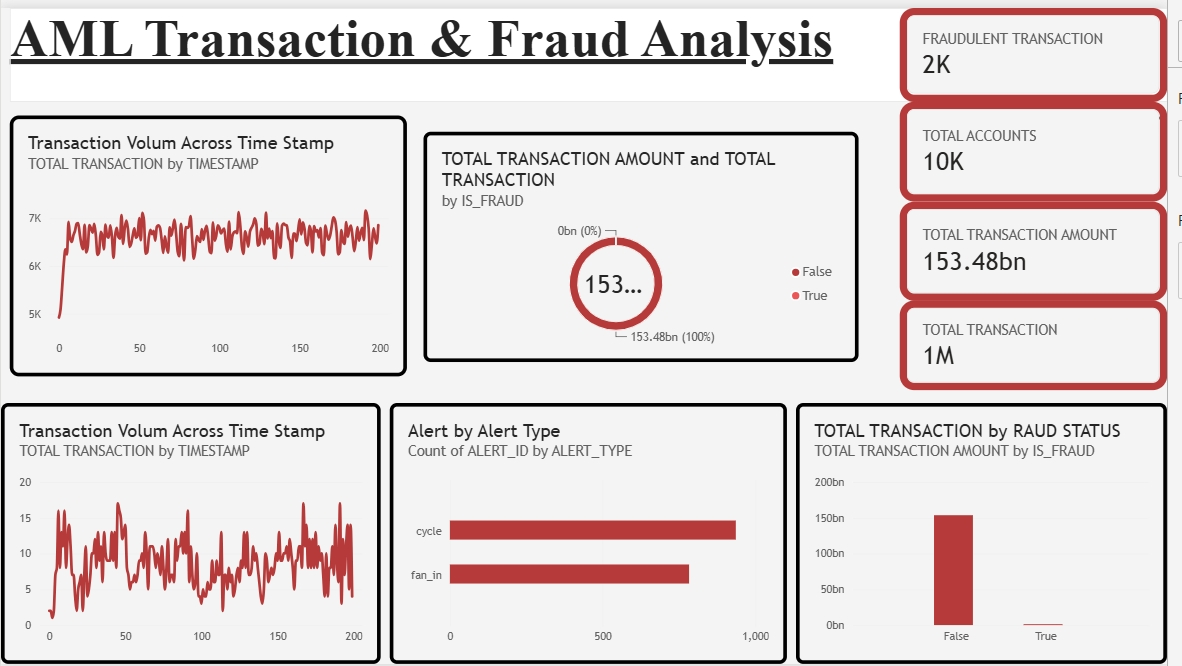

This screenshot's page, from the dashboard's own definition file:
{"tool":"powerbi","page":{"name":"Page 1","canvas":[1280,720],"ordinal":0},"visuals":[{"type":"textbox","box":[9.6,0,1270.7,102.9],"z":0},{"type":"cardVisual","fields":{"Data":["Transactions.TOTAL TRANSACTION"]},"box":[986.6,321.1,293.7,98.8],"z":1000},{"type":"cardVisual","fields":{"Data":["Accounts.TOTAL ACCOUNTS"]},"box":[986.6,102.9,293.7,109.8],"z":2000},{"type":"cardVisual","fields":{"Data":["Transactions.FRAUDULENT TRANSACTION"]},"box":[986.6,0,293.7,102.9],"z":3000},{"type":"cardVisual","fields":{"Data":["Transactions.TOTAL TRANSACTION AMT"]},"box":[986.6,212.7,293.7,108.4],"z":4000},{"type":"lineChart","title":"Transaction Volum Across Time Stamp","fields":{"Category":["Transactions.TIMESTAMP"],"Y":["Transactions.TOTAL TRANSACTION"]},"box":[9.6,118,436.4,286.8],"z":5000},{"type":"donutChart","fields":{"Category":["Transactions.IS_FRAUD"],"Y":["Transactions.TOTAL TRANSACTION AMT","Transactions.TOTAL TRANSACTION"]},"box":[463.8,135.8,477.5,252.5],"z":6000},{"type":"clusteredBarChart","title":"Alert by Alert Type","fields":{"Category":["Alerts.ALERT_TYPE"],"Y":["CountNonNull(Alerts.ALERT_ID)"]},"box":[426.8,433.6,436.4,286.8],"z":7000},{"type":"clusteredColumnChart","title":"TOTAL TRANSACTION  by RAUD STATUS","fields":{"Category":["Transactions.IS_FRAUD"],"Y":["Transactions.TOTAL TRANSACTION AMT"]},"box":[872.7,433.6,407.5,286.8],"z":8000},{"type":"lineChart","title":"Transaction Volum Across Time Stamp","fields":{"Category":["Transactions.TIMESTAMP"],"Y":["Transactions.TOTAL TRANSACTION"]},"box":[0,433.6,417.2,286.8],"z":9000}]}

Visuals, with their boxes in screenshot pixels (x1, y1, x2, y2), scaled from the page's 1280x720 canvas onto the 1182x666 screenshot:
textbox: bbox(9, 0, 1181, 95)
cardVisual - Transactions.TOTAL TRANSACTION: bbox(911, 297, 1181, 388)
cardVisual - Accounts.TOTAL ACCOUNTS: bbox(911, 95, 1181, 197)
cardVisual - Transactions.FRAUDULENT TRANSACTION: bbox(911, 0, 1181, 95)
cardVisual - Transactions.TOTAL TRANSACTION AMT: bbox(911, 197, 1181, 297)
"Transaction Volum Across Time Stamp" lineChart: bbox(9, 109, 412, 374)
donutChart - Transactions.IS_FRAUD x Transactions.TOTAL TRANSACTION AMT: bbox(428, 126, 869, 359)
"Alert by Alert Type" clusteredBarChart: bbox(394, 401, 797, 665)
"TOTAL TRANSACTION  by RAUD STATUS" clusteredColumnChart: bbox(806, 401, 1181, 665)
"Transaction Volum Across Time Stamp" lineChart: bbox(0, 401, 385, 665)
